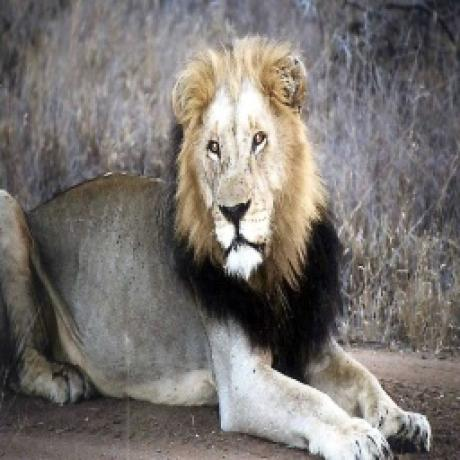Lion: (0, 33, 435, 460)
